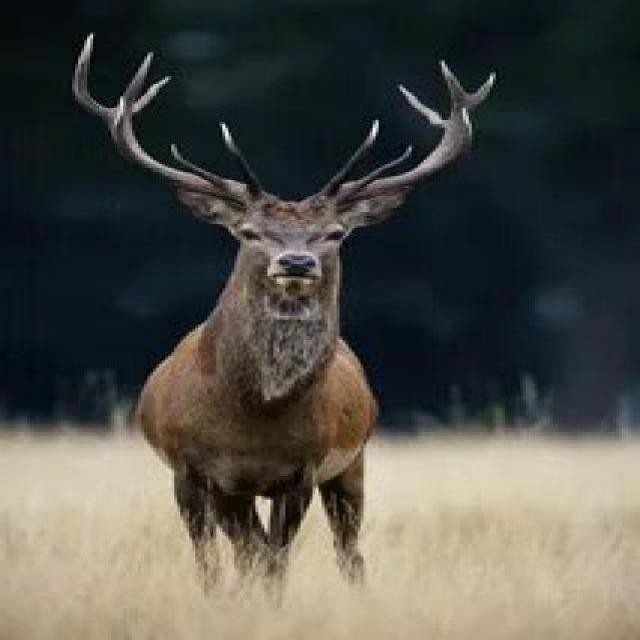deer: (78, 50, 534, 594)
